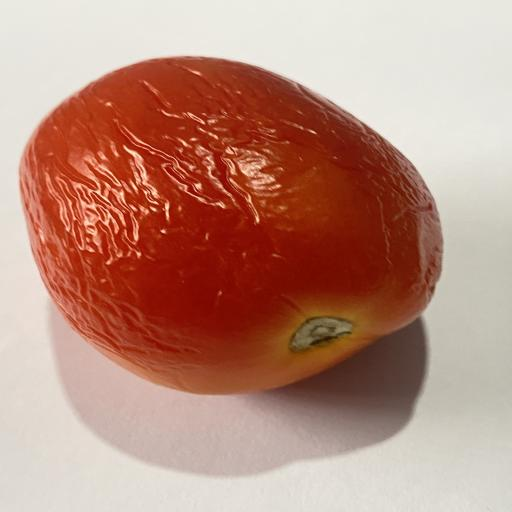spoiled: (20, 57, 442, 394)
